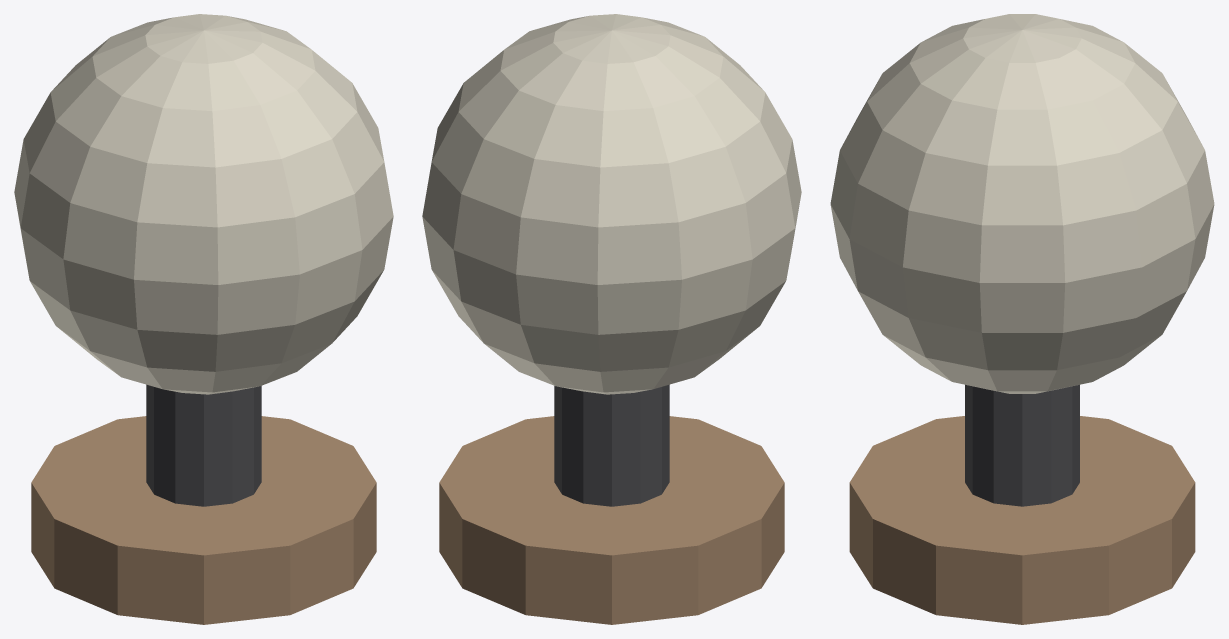
Rendered from ilu_lampada_mesa.glb.
3 renders of one model, left to right at view 1: azimuth 30°, elevation 25°; view 2: azimuth 150°, elevation 25°; view 3: azimuth 270°, elevation 25°, orthographic.
Parts seen in each view (by area): view 1: ILU_Lampada_Mesa_v01; view 2: ILU_Lampada_Mesa_v01; view 3: ILU_Lampada_Mesa_v01.
Boxes of the visible parts, x1=… form: ILU_Lampada_Mesa_v01: x1=14, y1=14, x2=393, y2=624; ILU_Lampada_Mesa_v01: x1=422, y1=14, x2=801, y2=624; ILU_Lampada_Mesa_v01: x1=830, y1=14, x2=1214, y2=624.
Size of the model in its own units: 0.195 by 0.3 by 0.2.
